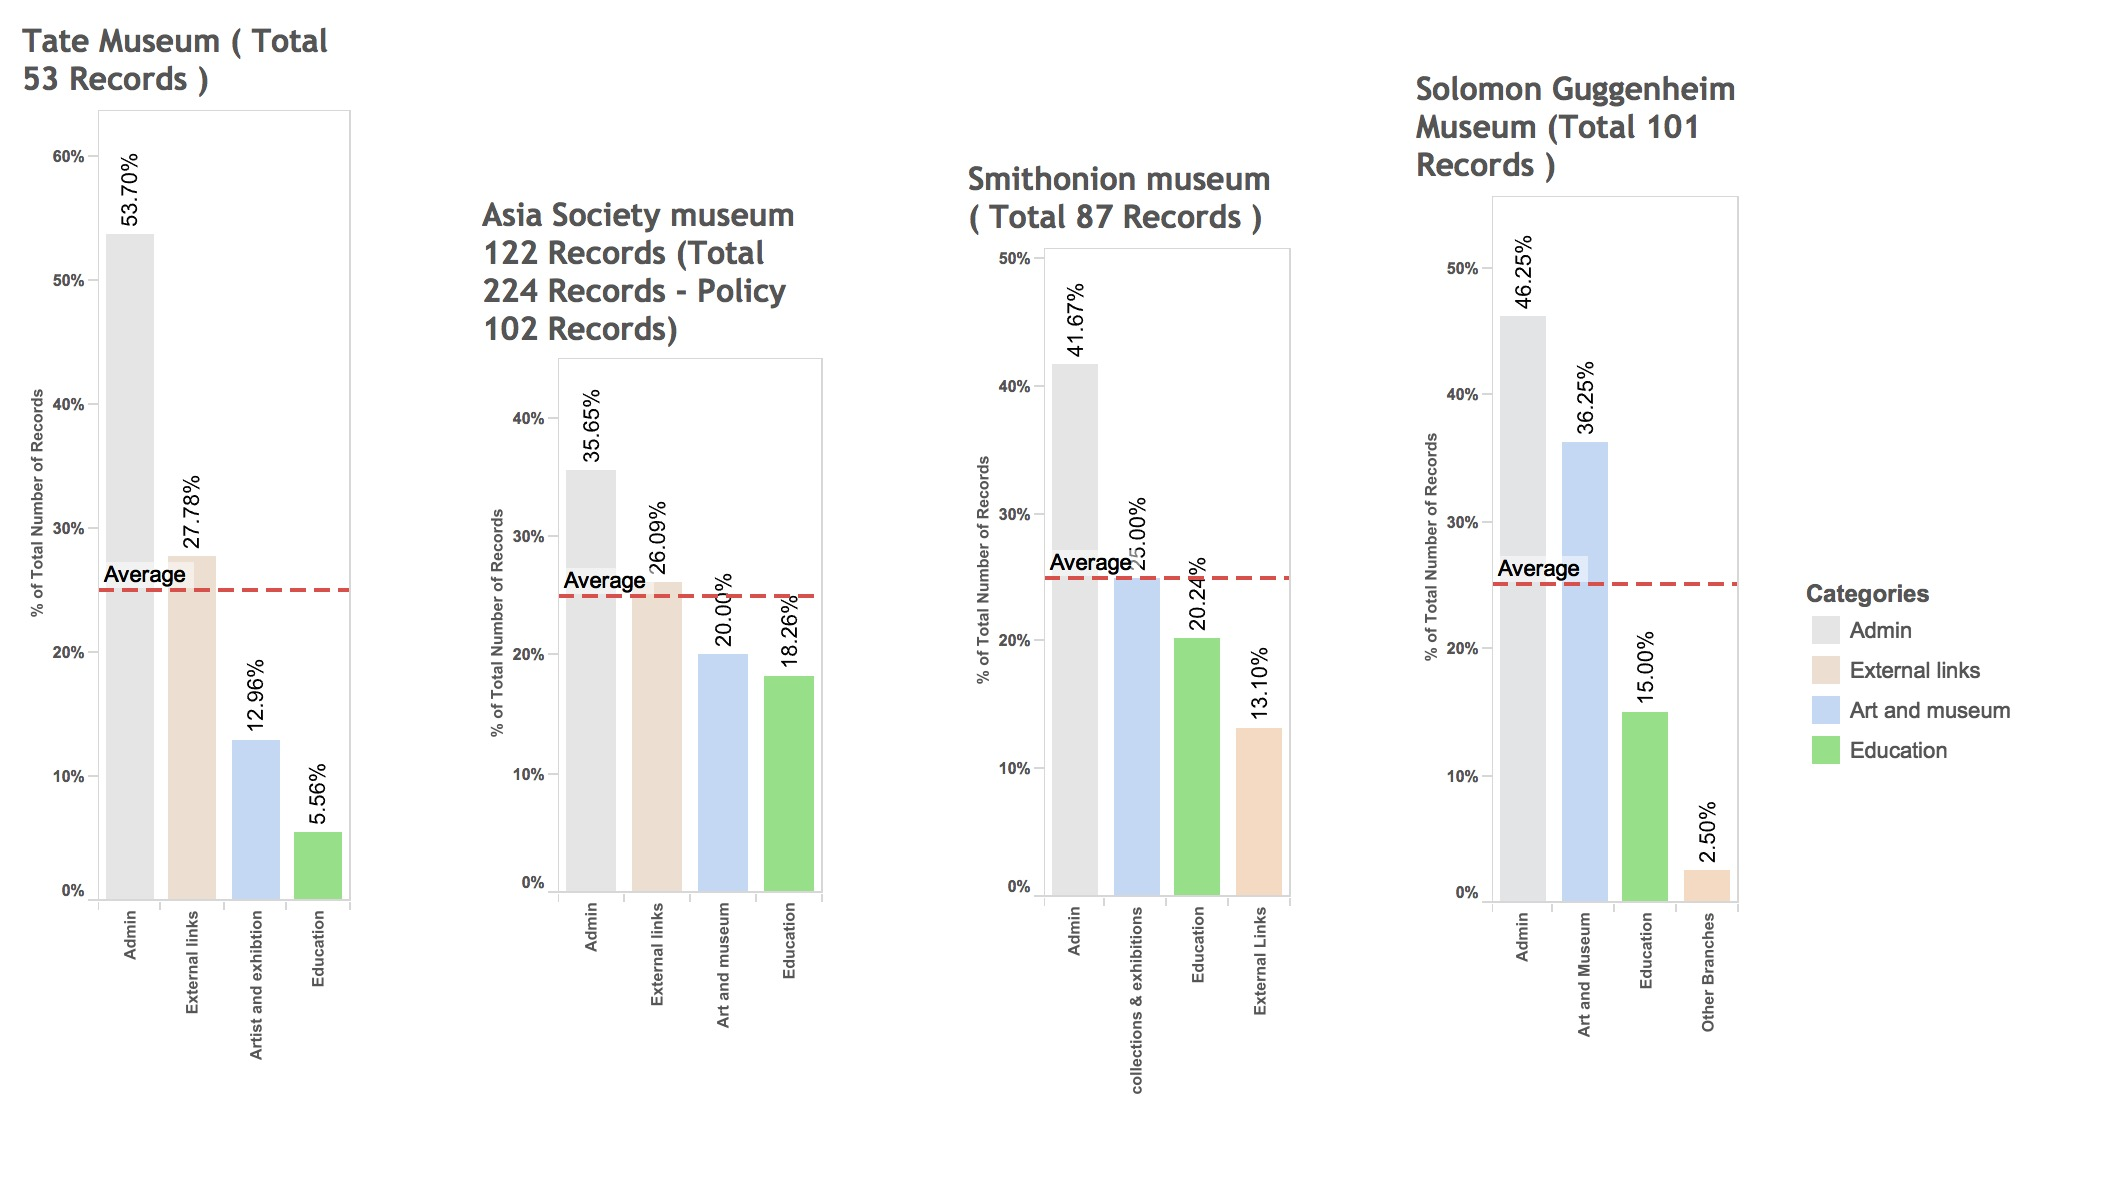

The page's visual inventory and layout, read from the dashboard file:
{"tool":"tableau","page":{"name":"Dashboard 1","canvas":[1100,850],"ordinal":0},"visuals":[{"type":"worksheet","title":"Tate Museum","mark":"Automatic","rows":["Number of Records"],"box":[18,19,165,551]},{"type":"worksheet","title":"Solomon Guggenheim Museum","mark":"Bar","rows":["Number of Records"],"box":[715,43,162,611]},{"type":"worksheet","title":"Smithonion museum","mark":"Automatic","rows":["Number of Records"],"box":[491,88,162,496]},{"type":"worksheet","title":"Asia Society museum","mark":"Automatic","rows":["Number of Records"],"box":[248,106,171,462]},{"type":"legend","title":"Asia Society museum","param":"[textscan.42093.841880000000].[F3 (group)]","box":[910,298,159,171]}]}

Visuals, with their boxes on the page's 1100x850 design canvas (x1, y1, x2, y2). These are canvas units, not pixel positions in the 2106x1180 screenshot, which may show the page scaled, cropped or inside an application window:
"Tate Museum" worksheet: (x1=18, y1=19, x2=183, y2=570)
"Solomon Guggenheim Museum" worksheet (Bar marks): (x1=715, y1=43, x2=877, y2=654)
"Smithonion museum" worksheet: (x1=491, y1=88, x2=653, y2=584)
"Asia Society museum" worksheet: (x1=248, y1=106, x2=419, y2=568)
"Asia Society museum" legend: (x1=910, y1=298, x2=1069, y2=469)
